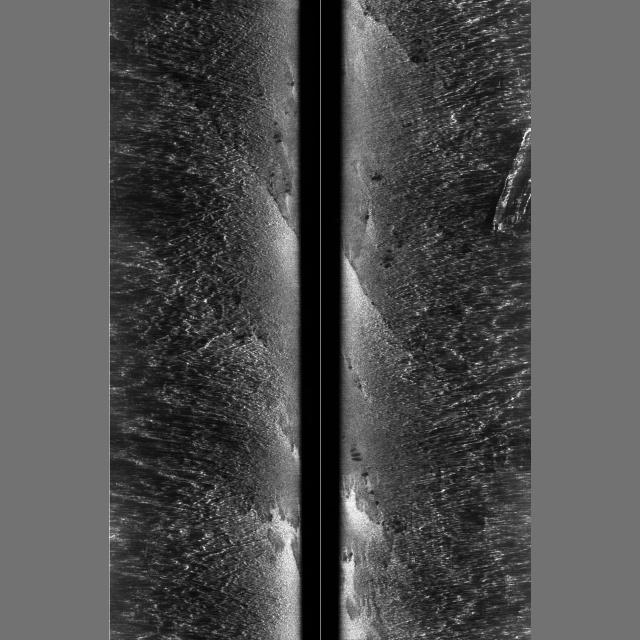Shipwreck: (491, 128, 531, 239)
